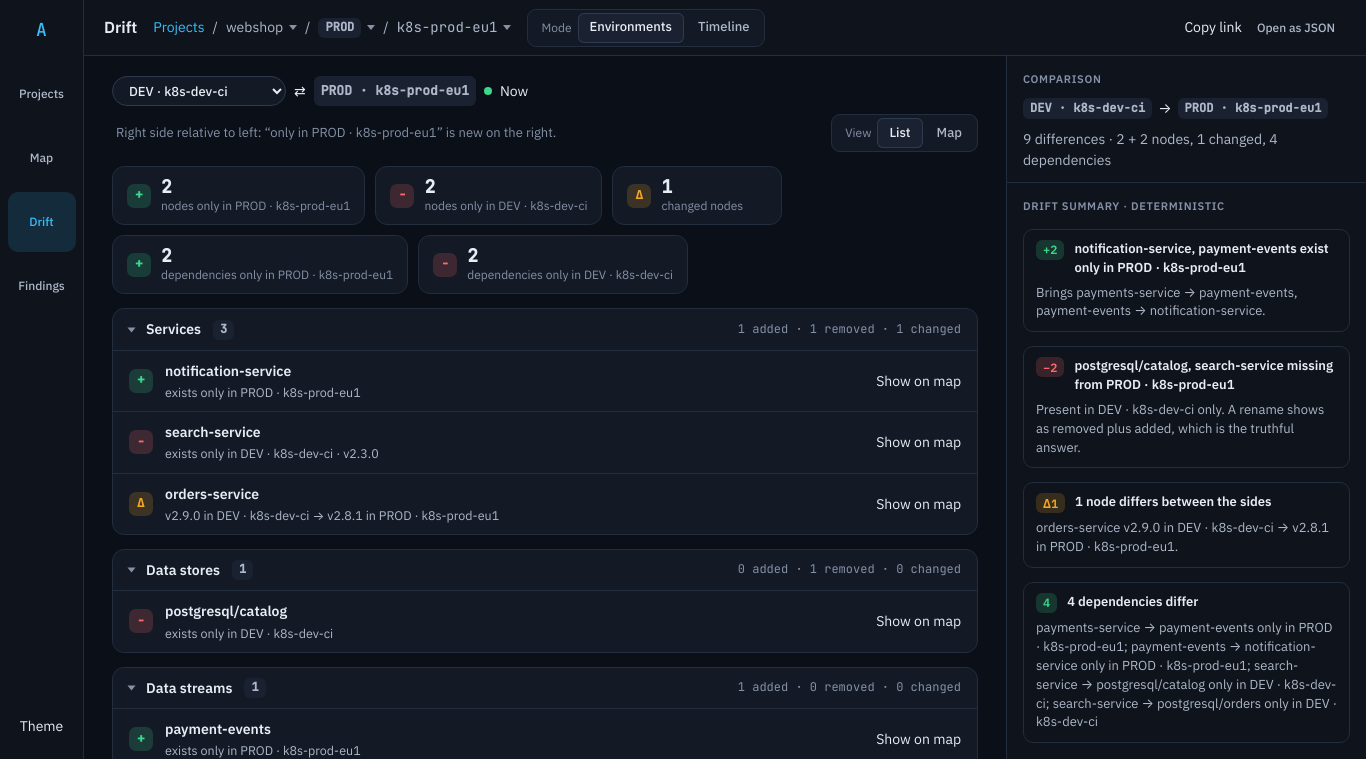
Test: DriftPage › switches the left side, swaps the sides and keeps the comparison in the URL
The width and height of the screenshot is (1366, 759).
expect the text "search-service" is shown: met, box [165,423,261,441]
Select "DEV · k8s-dev-eu1" in the dropdown named "Left side". click: point(199, 91)
box: [112,76,286,106]
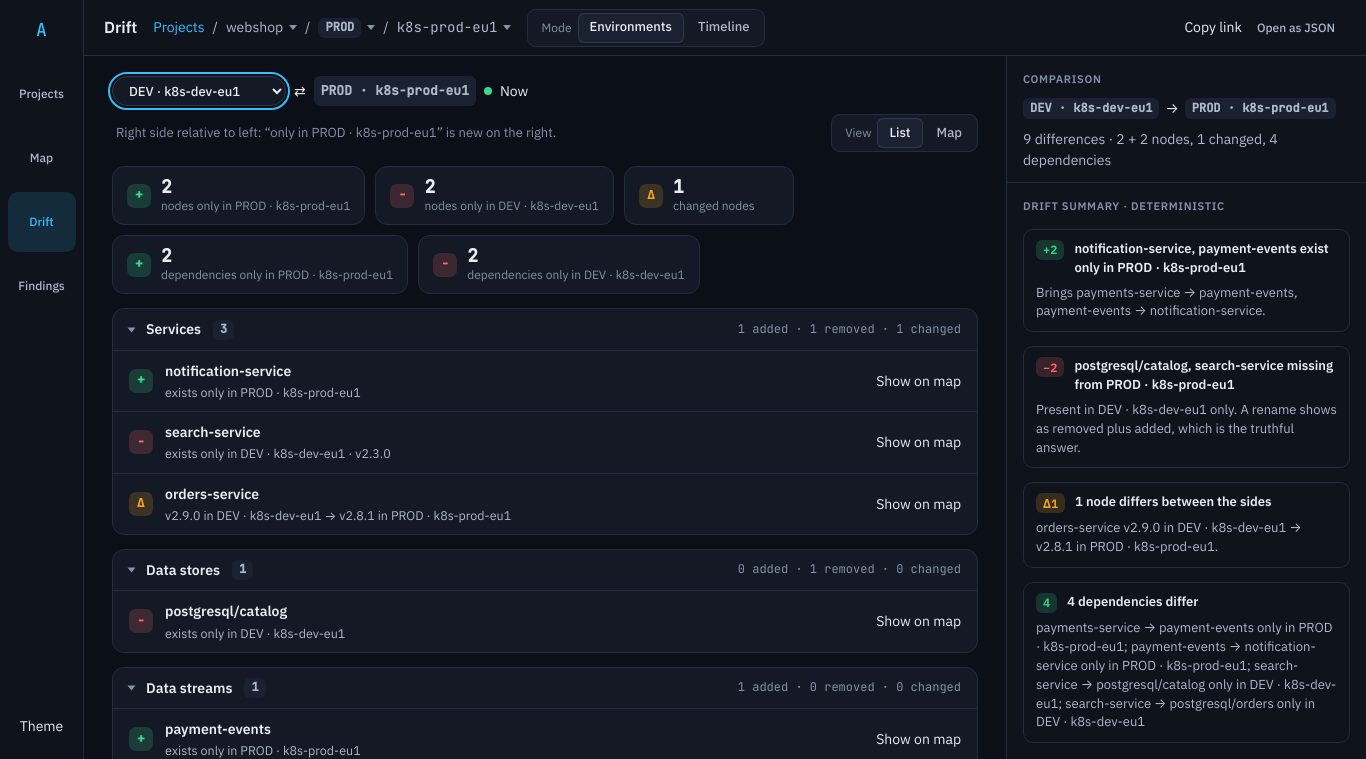
Click the button named "Swap sides". click: point(300, 91)
box: [294,77,306,105]
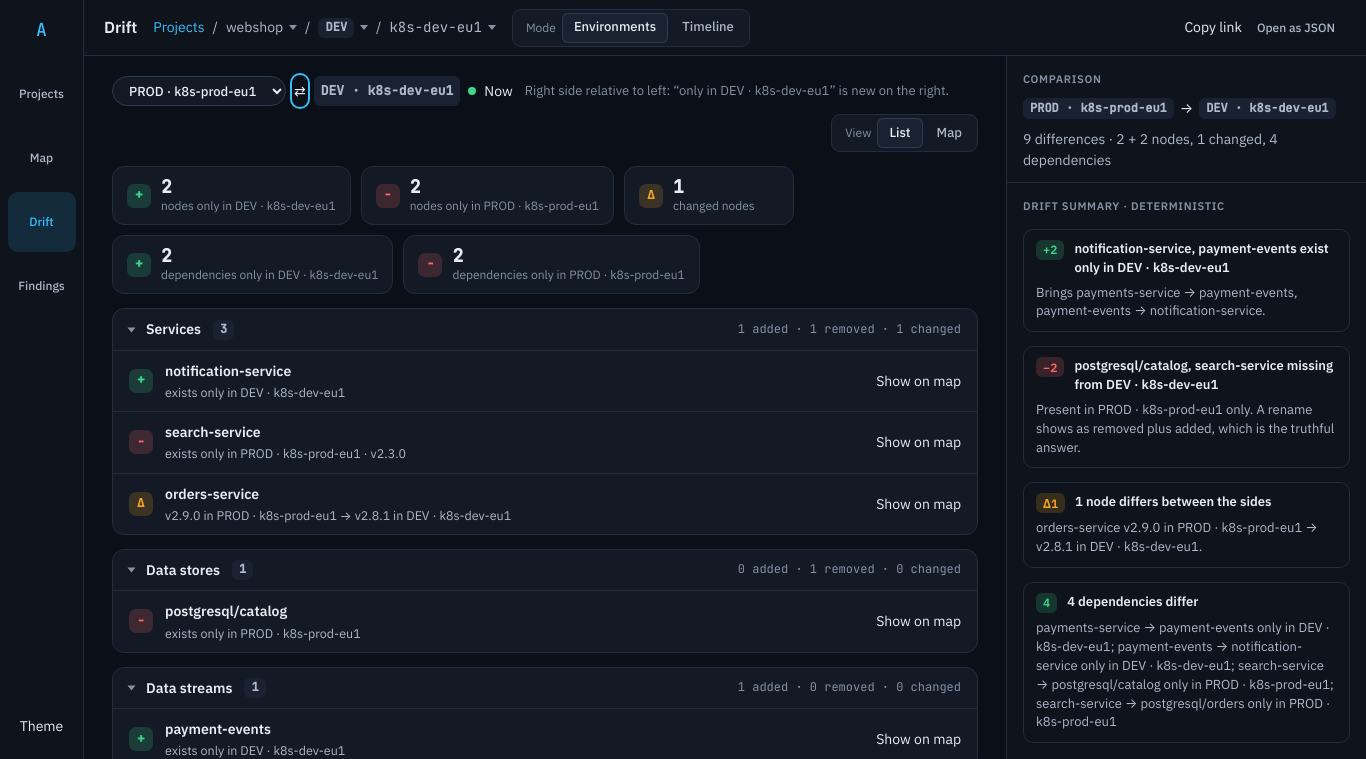
expect the text named "Right side" reads "DEV · k8s-dev-eu1": met, box [314,76,460,106]
expect the navigation bar named "Scope" reads "Projects / webshop / DEV / k8s-dev-eu1": met, box [153,12,496,42]
